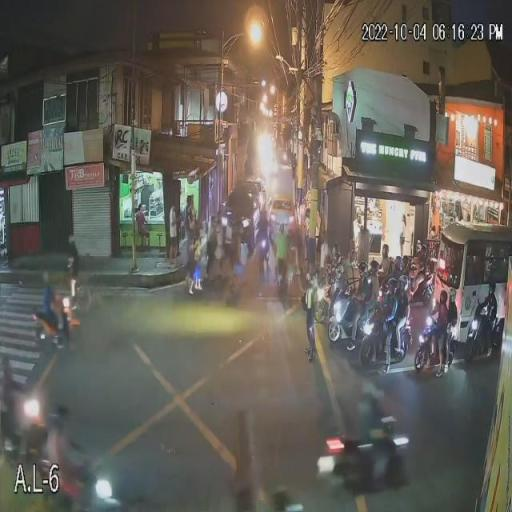helmet: (368, 260, 381, 276), (446, 288, 457, 306), (379, 244, 392, 259), (356, 261, 369, 275), (438, 289, 448, 305), (392, 255, 402, 270), (332, 253, 342, 268), (386, 277, 398, 288), (486, 284, 497, 296), (400, 256, 411, 267), (420, 246, 428, 259)
motorcycle: (0, 386, 82, 504), (314, 414, 410, 501), (32, 297, 82, 371), (354, 306, 404, 368), (323, 286, 367, 347), (462, 312, 507, 370), (411, 308, 443, 374), (250, 229, 277, 276), (402, 269, 436, 299)
rider: (6, 348, 54, 442), (345, 375, 391, 463), (422, 290, 452, 374), (392, 275, 421, 351), (373, 277, 399, 360), (347, 259, 379, 321), (41, 276, 68, 342), (481, 280, 499, 362), (327, 249, 348, 313), (410, 247, 430, 300), (376, 246, 394, 294), (250, 214, 269, 254)
